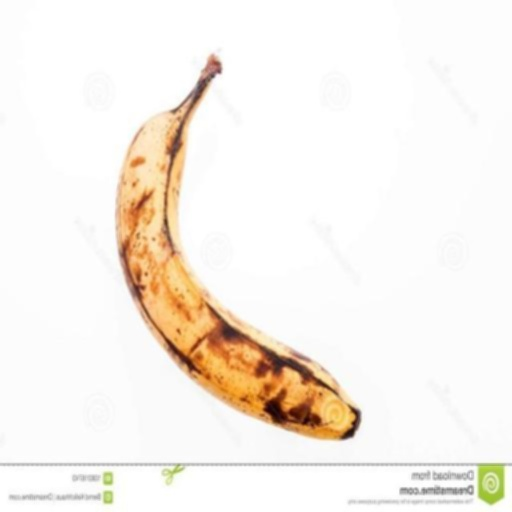fruit: (49, 26, 369, 142)
